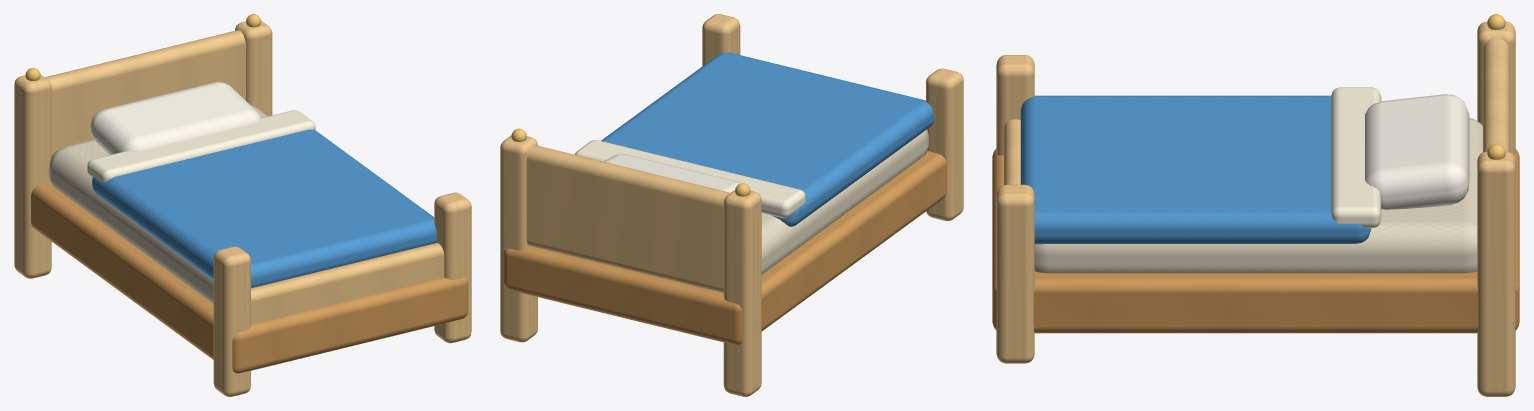
The model's file is BED.glb.
3 views of the same model, side by side, from view 1: azimuth 30°, elevation 25°; view 2: azimuth 150°, elevation 25°; view 3: azimuth 270°, elevation 25° (orthographic). The views are drawn at different scales.
Visible parts, largest first — view 1: BED; view 2: BED; view 3: BED.
Part boxes in pixels (<box>): BED: <box>14,14,471,396</box>; BED: <box>500,14,963,396</box>; BED: <box>992,14,1519,396</box>.
Size of the model in its own units: 1.04 by 0.818 by 1.58.
Materials: 7 (4 with a texture image).
